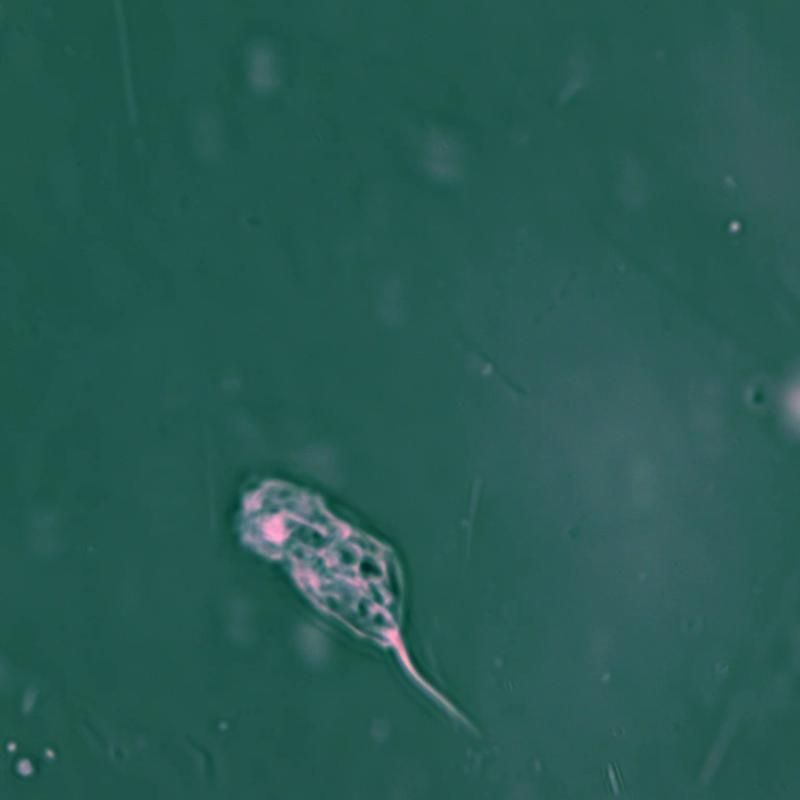depth:40: (200, 450, 520, 755)
